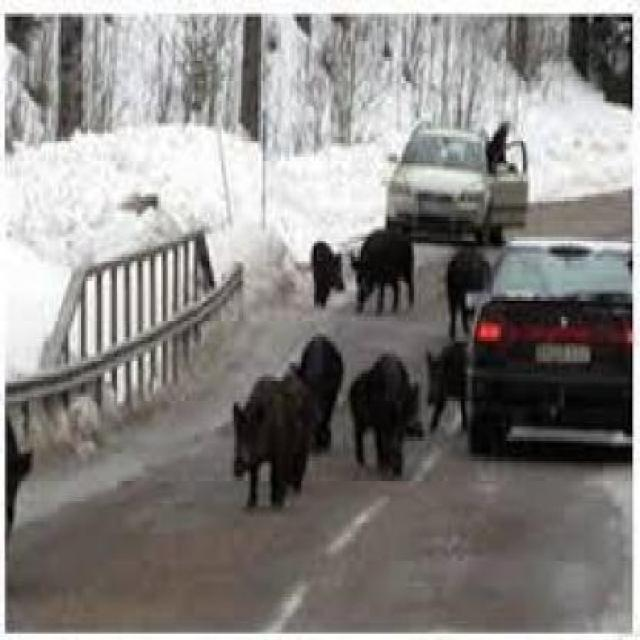wildboar: (224, 375, 316, 519), (342, 348, 430, 478), (285, 325, 346, 472), (420, 332, 488, 442), (346, 226, 419, 320), (442, 246, 506, 340), (309, 234, 345, 315)
